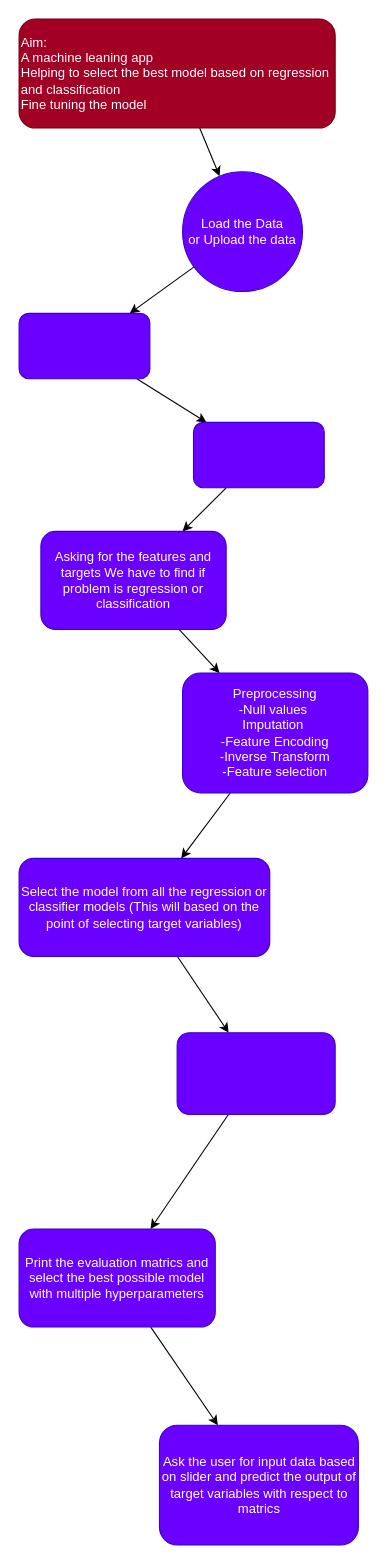
Image size: 387x1564. Some labels were removed from this diagram. Here are the shapes that lost their labels. From the top down, the centre of each, then its label:
the point at 84,345: Example Data Button
the point at 258,454: Check the Column name and data type
the point at 255,1073: Add the evaluation matrics based on Problems
